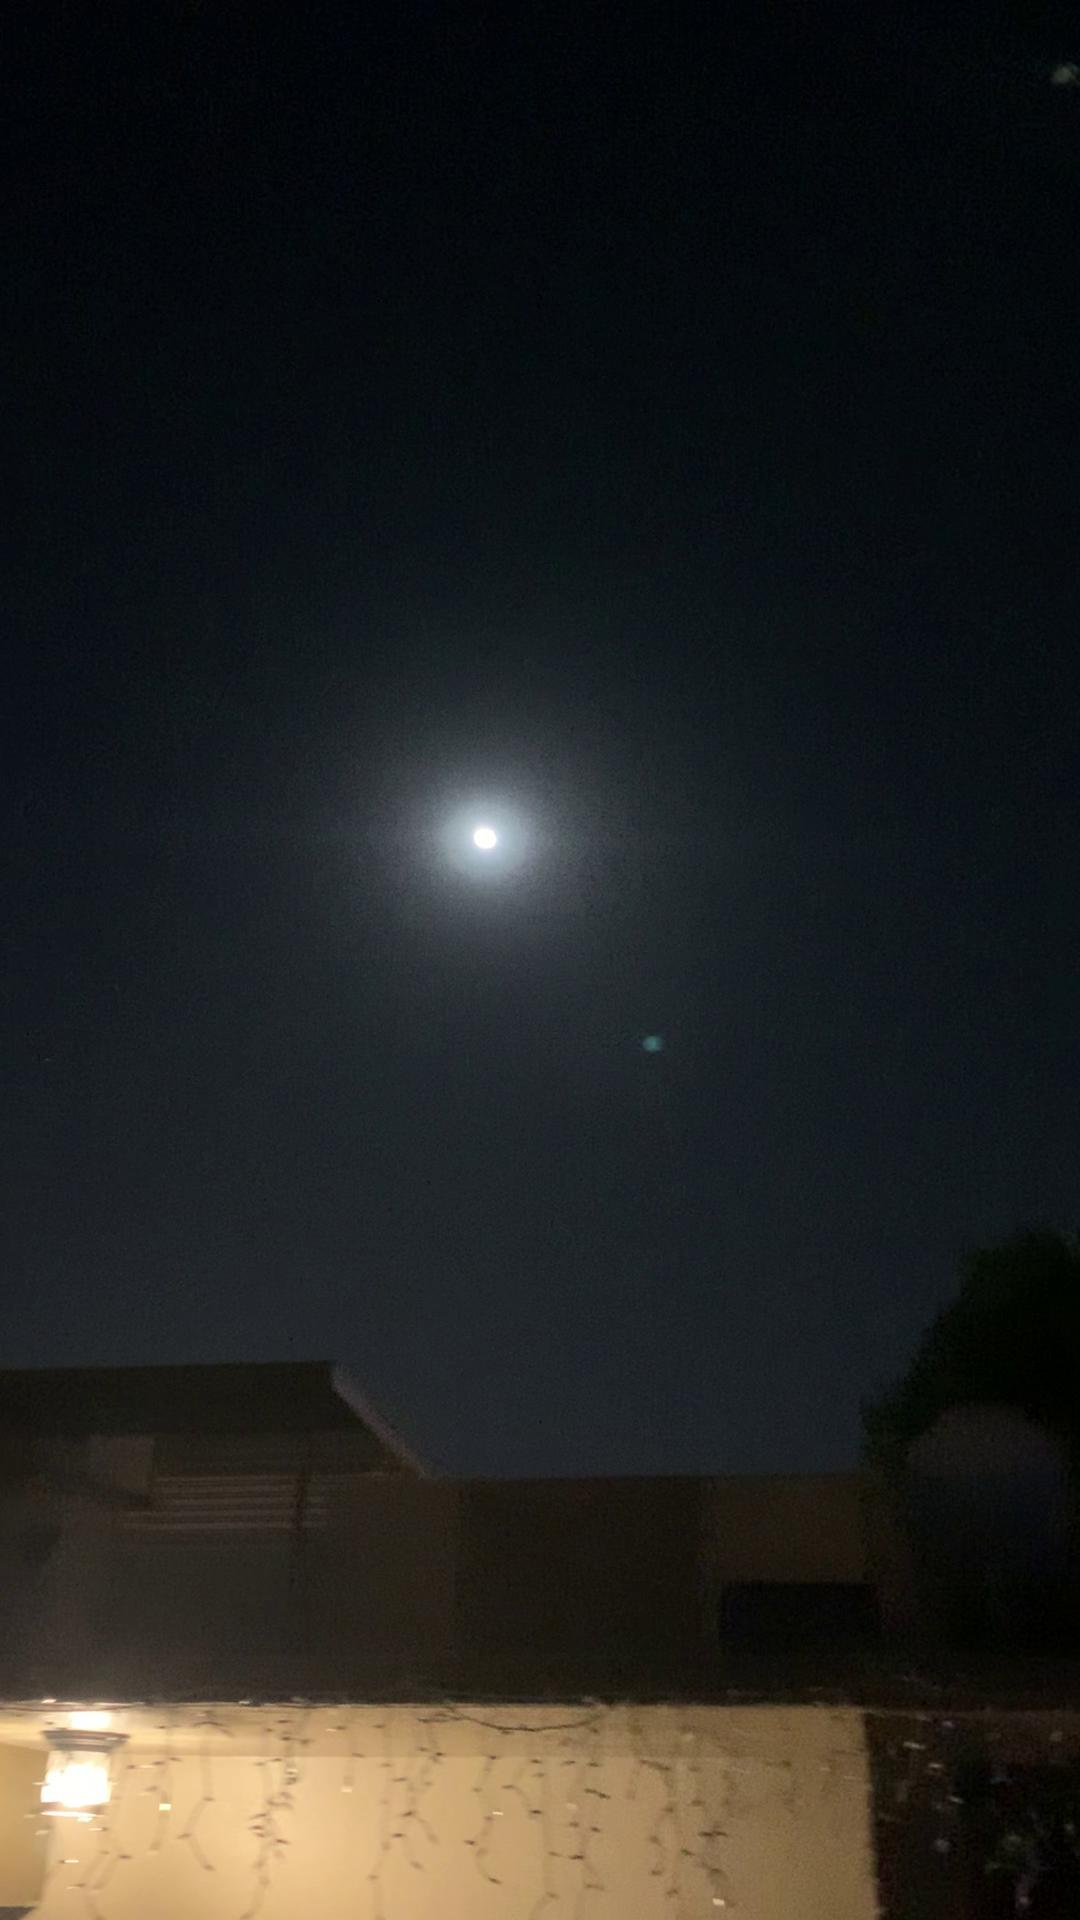moon: (440, 799, 527, 884)
